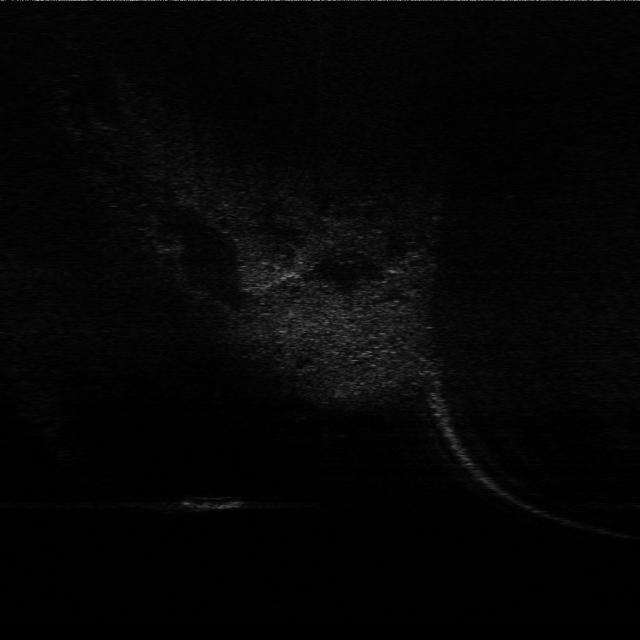square cage: (186, 482, 250, 515)
